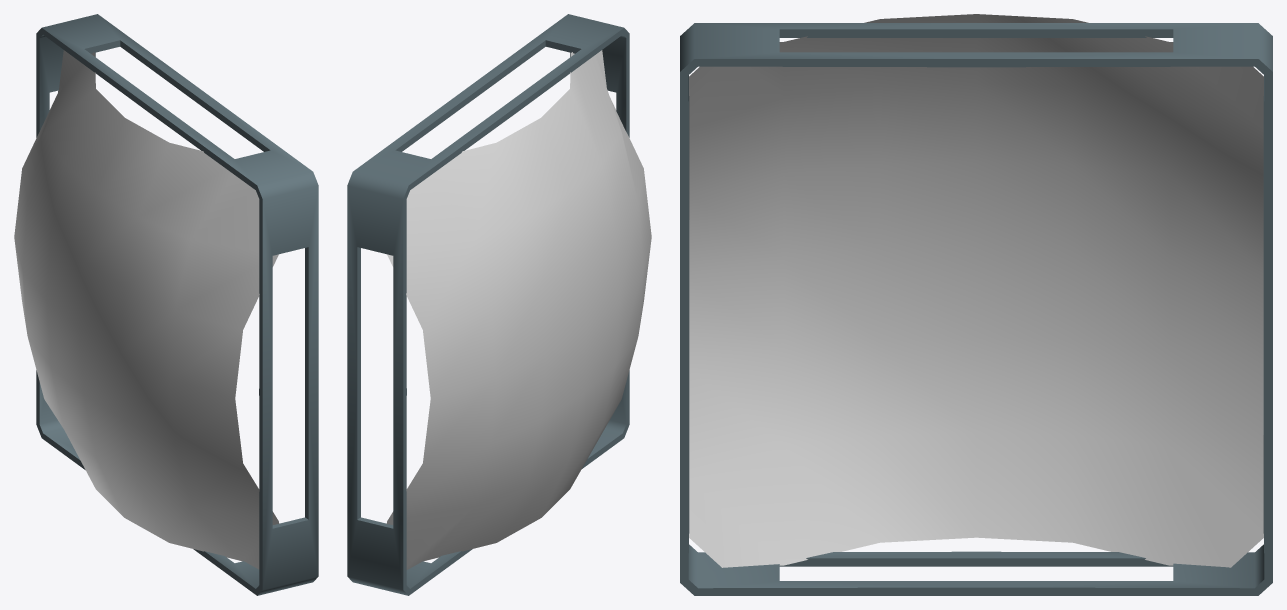
File: fant_sail_frame_7x7_B.fbx
3 views of the same model, side by side, from view 1: azimuth 30°, elevation 25°; view 2: azimuth 150°, elevation 25°; view 3: azimuth 270°, elevation 25° (orthographic). The views are drawn at different scales.
Visible parts, largest first — view 1: fant_sail_frame_7x7.001; view 2: fant_sail_frame_7x7.001; view 3: fant_sail_frame_7x7.001.
Part boxes in pixels (x1=…): fant_sail_frame_7x7.001: x1=14, y1=14, x2=318, y2=595; fant_sail_frame_7x7.001: x1=347, y1=14, x2=651, y2=595; fant_sail_frame_7x7.001: x1=680, y1=14, x2=1272, y2=595.
Bounding box in the file's own units: 225 × 700 × 700.
